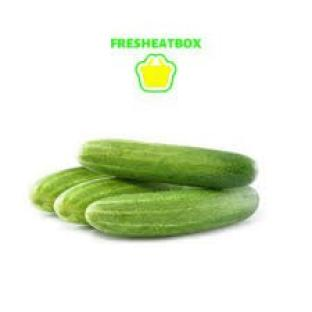Cucumber: (86, 188, 257, 237), (80, 141, 256, 188), (55, 178, 160, 224), (31, 167, 108, 212)
